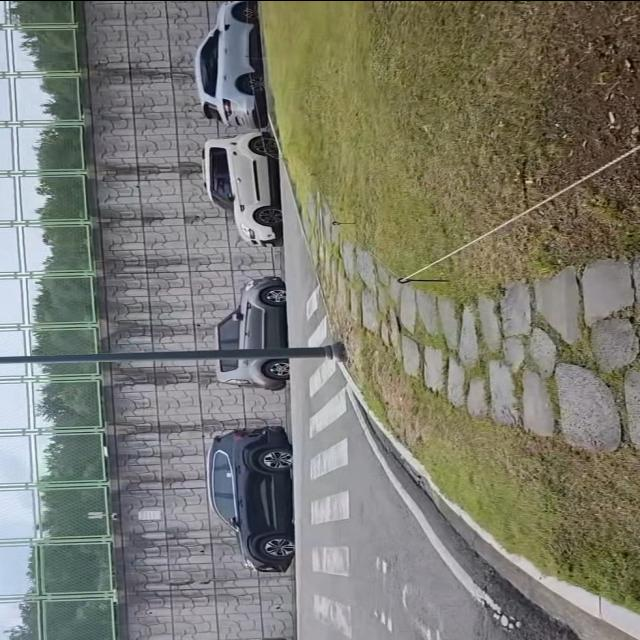obstacle: (201, 416, 298, 581), (0, 339, 346, 367)
road: (285, 188, 638, 640)
